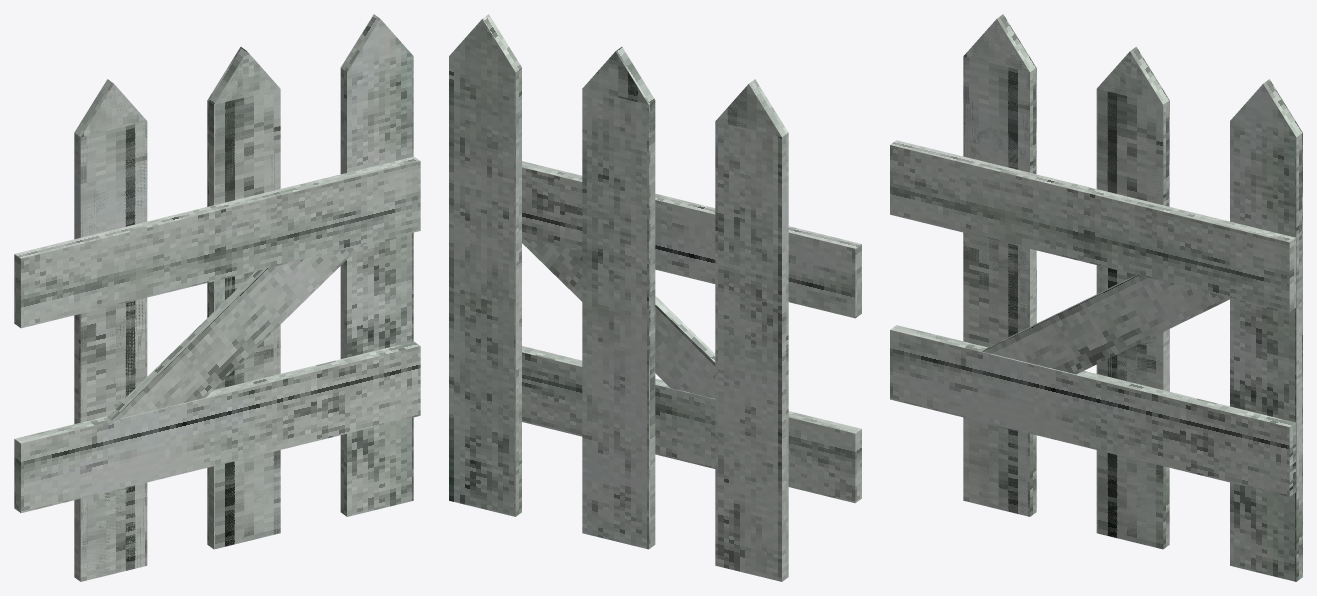
The model's file is white_picket_fence_gate.glb.
3 views of the same model, side by side, from view 1: azimuth 30°, elevation 25°; view 2: azimuth 150°, elevation 25°; view 3: azimuth 330°, elevation 25° (orthographic).
Parts seen in each view (by area): view 1: white_picket_fence_gate; view 2: white_picket_fence_gate; view 3: white_picket_fence_gate.
Part boxes in pixels (x1,y1,x2,y2): white_picket_fence_gate: (14, 14, 420, 581); white_picket_fence_gate: (449, 14, 861, 581); white_picket_fence_gate: (890, 14, 1302, 581).
Size of the model in its own units: 1.08 by 1.27 by 0.0622.
Materials: 1 (1 with a texture image).
